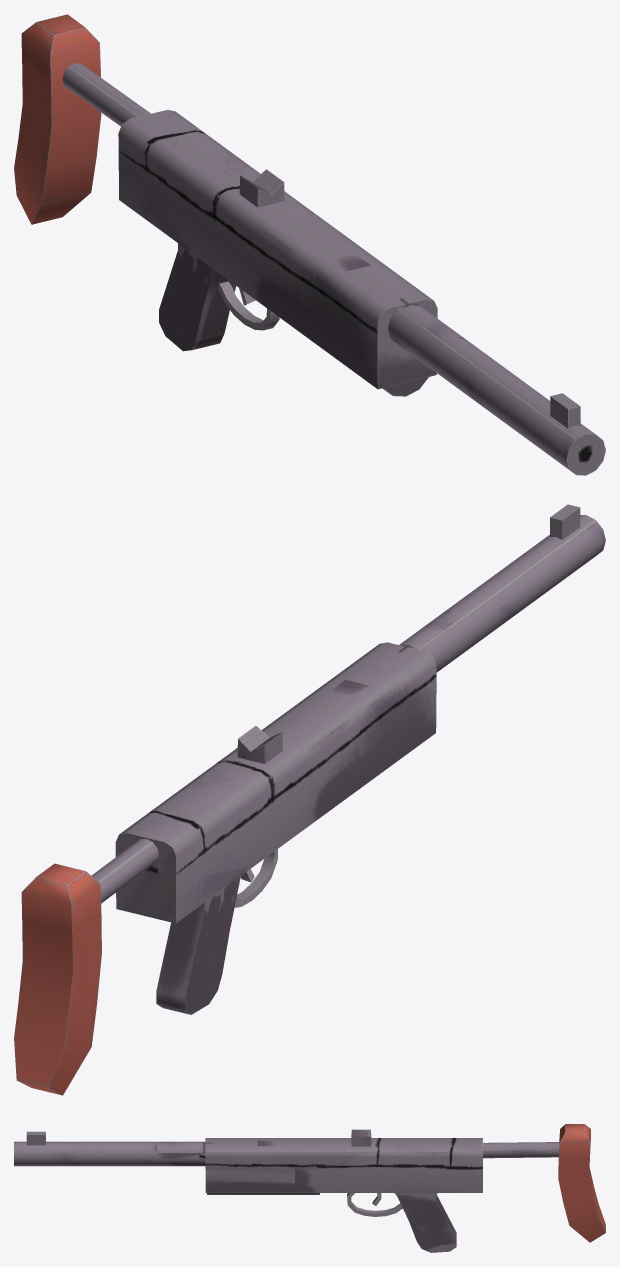
The model's file is Midas_Carbine.glb.
3 views of the same model, one above another, from view 1: azimuth 30°, elevation 25°; view 2: azimuth 150°, elevation 25°; view 3: azimuth 270°, elevation 25° (orthographic). The views are drawn at different scales.
Visible parts, largest first — view 1: Midas Carbine; view 2: Midas Carbine; view 3: Midas Carbine.
Part boxes in pixels (bbox=[...]): Midas Carbine: bbox=[14, 14, 605, 475]; Midas Carbine: bbox=[14, 504, 605, 1095]; Midas Carbine: bbox=[14, 1124, 605, 1252].
Size of the model in its own units: 0.073 by 0.2607 by 1.16.
1 material, 1 textured.
